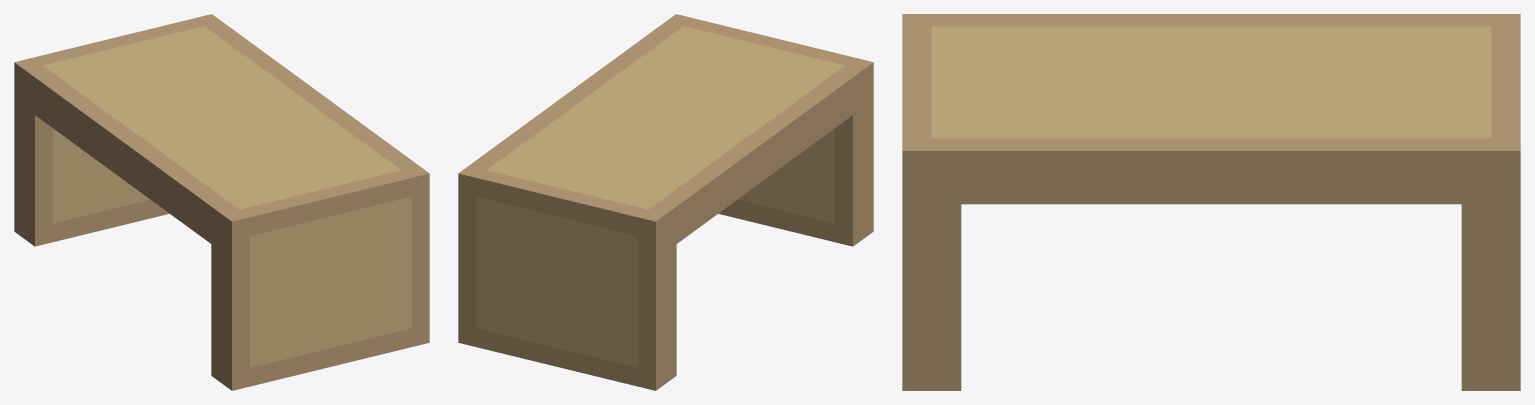
File: tablemeet.obj
3 views of the same model, side by side, from view 1: azimuth 30°, elevation 25°; view 2: azimuth 150°, elevation 25°; view 3: azimuth 270°, elevation 25° (orthographic). The views are drawn at different scales.
Size of the model in its own units: 1.1 by 0.9 by 2.1.
1 material, 1 textured.
